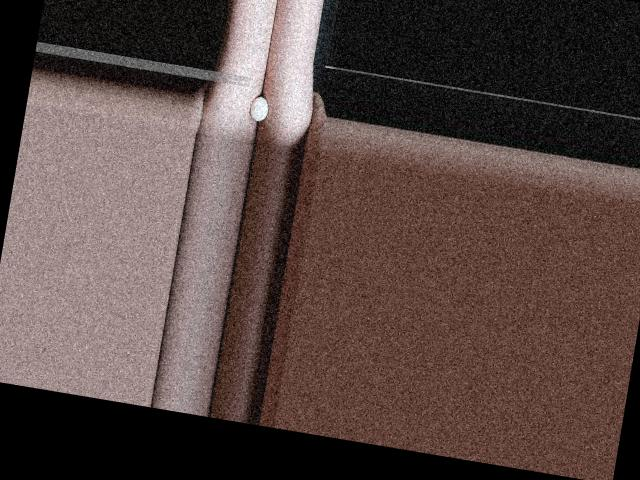egg: (248, 95, 270, 121)
